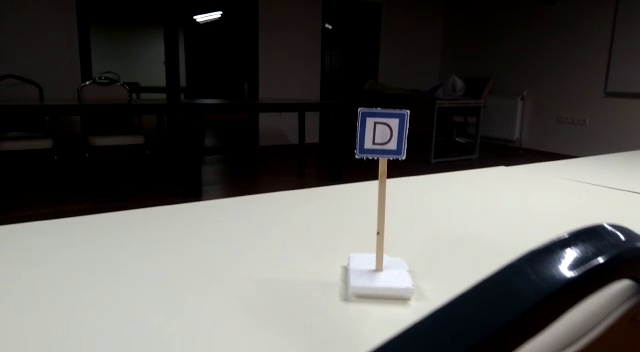durak: (354, 109, 408, 160)
